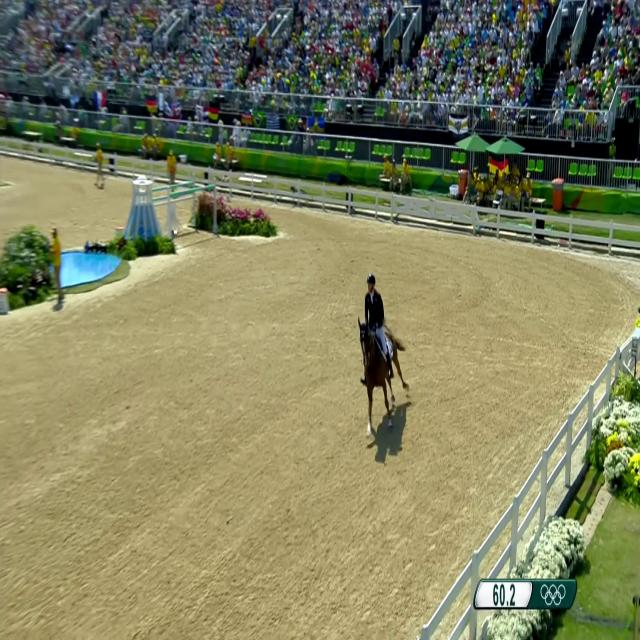Horse Rider: (358, 264, 395, 348)
Horse Running: (354, 315, 422, 452)
